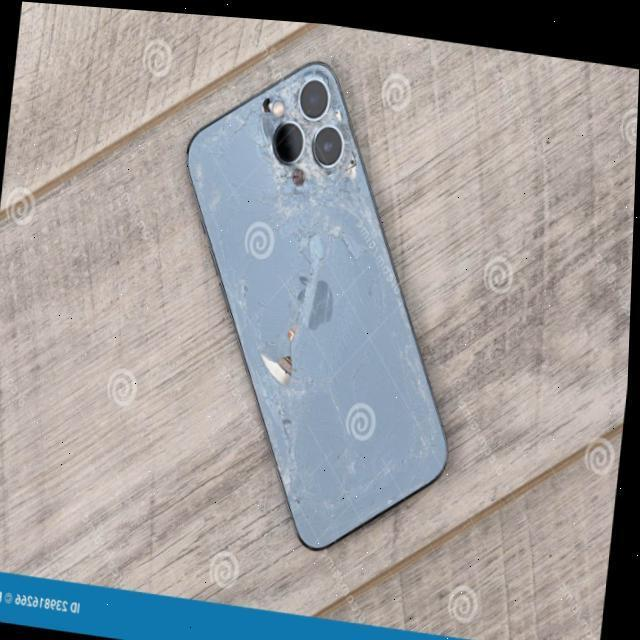Crack: (219, 256, 462, 538), (245, 58, 416, 244)
